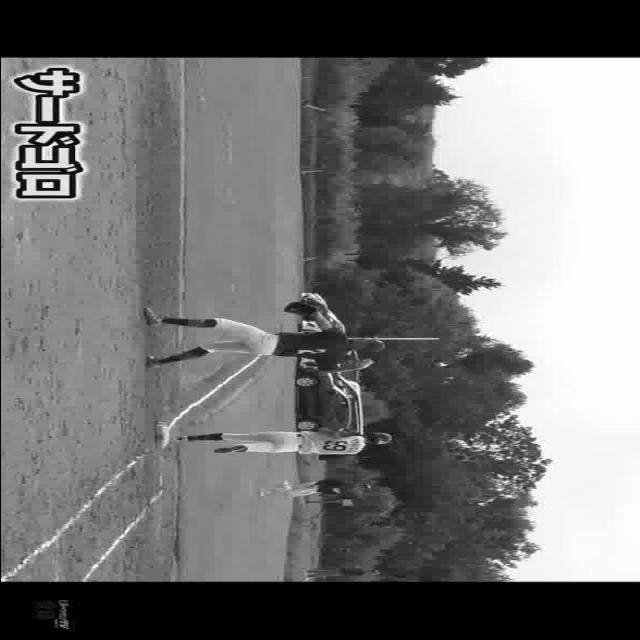base: (151, 421, 172, 450)
baseball: (351, 360, 371, 368)
baseball_glove: (282, 299, 320, 316)
shoe: (139, 306, 167, 331), (210, 445, 252, 455), (140, 354, 158, 369), (179, 435, 190, 445)
